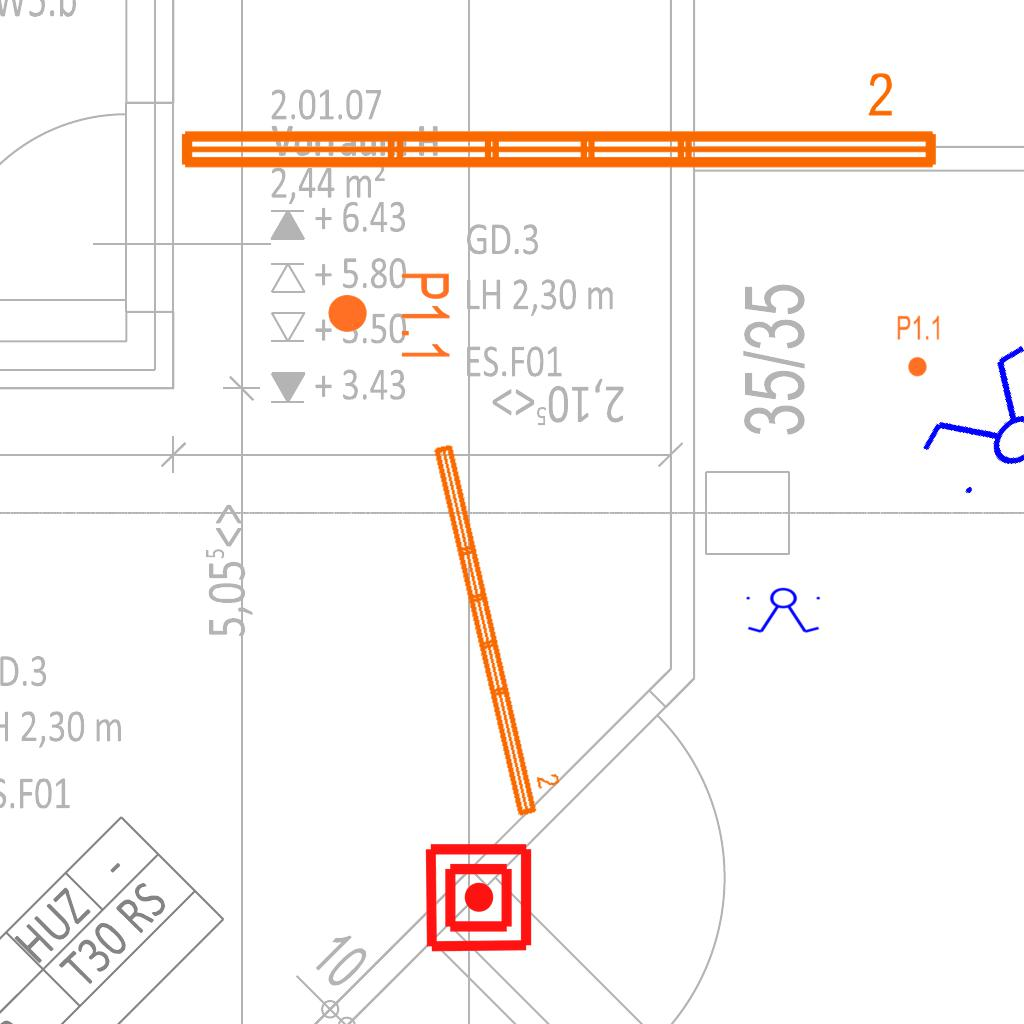Ambulanz_Pendelleuchte_LED: (171, 68, 945, 180), (426, 432, 569, 822)
Downlight_LED_Einbauleuchten_Flur: (325, 270, 453, 363), (896, 314, 942, 378)
NAM-Nichtautomatischer_Melder: (422, 841, 535, 954)
Serienschalter: (905, 329, 1024, 517), (742, 587, 826, 635)
